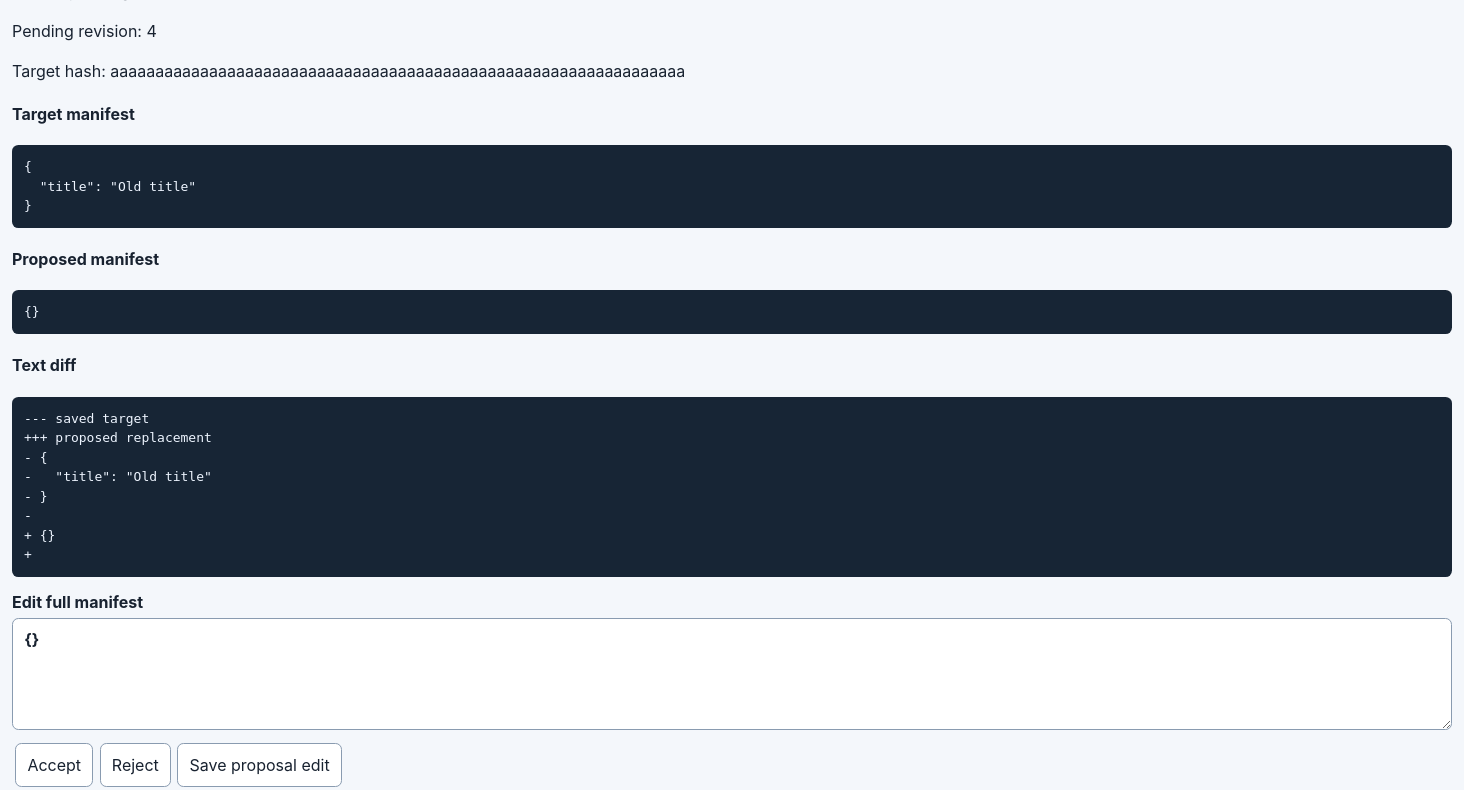
Test case: ProposalReview › retains a successful Accept as durable when refresh is unavailable
The width and height of the screenshot is (1464, 790).
(page scrolled)
Click the button "Accept".
click(54, 765)  # box [15, 743, 93, 787]
(page scrolled)
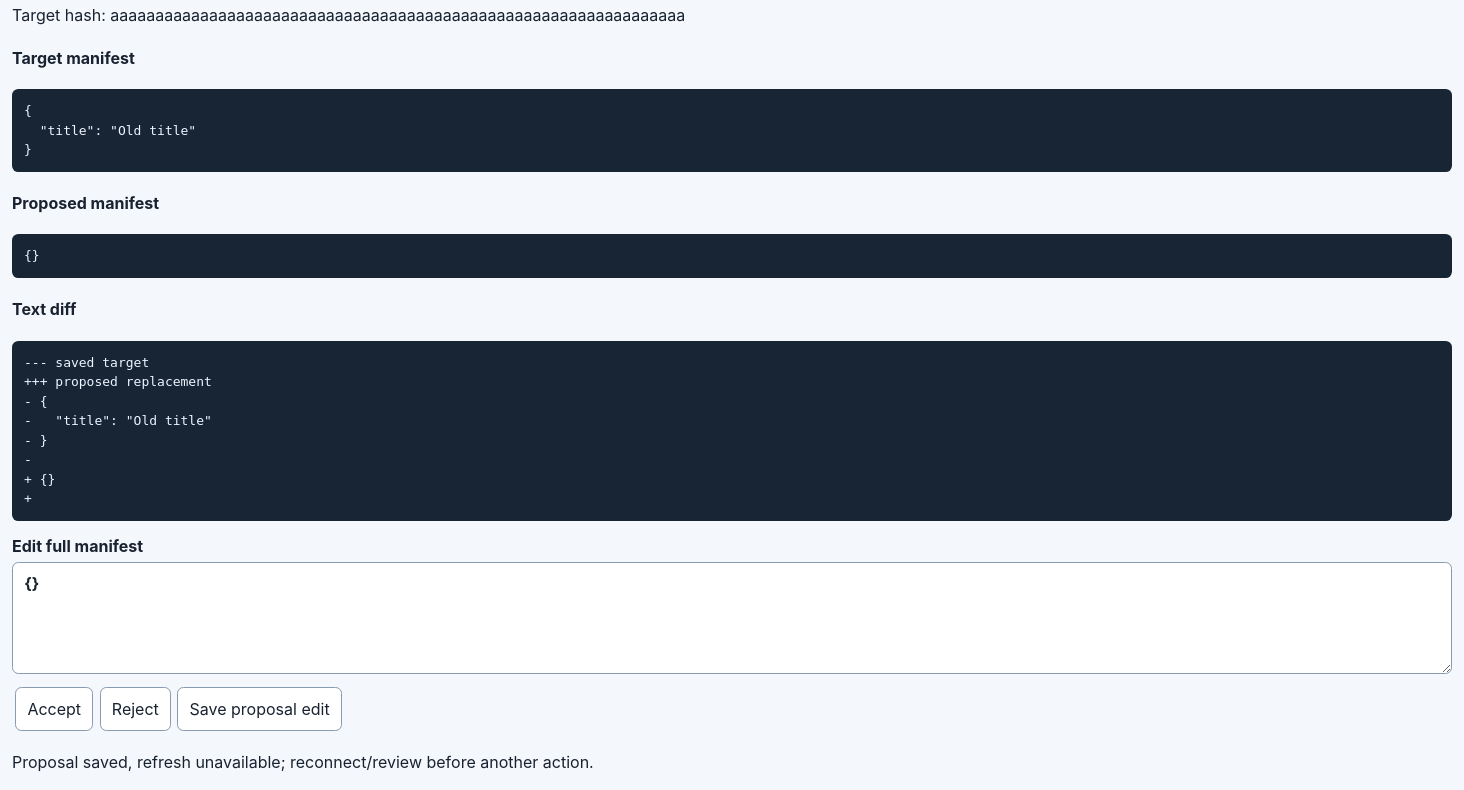
Expected: the text "Proposal saved, refresh unavailable; reconnect/review before another action." is shown, [12, 752, 594, 772]
